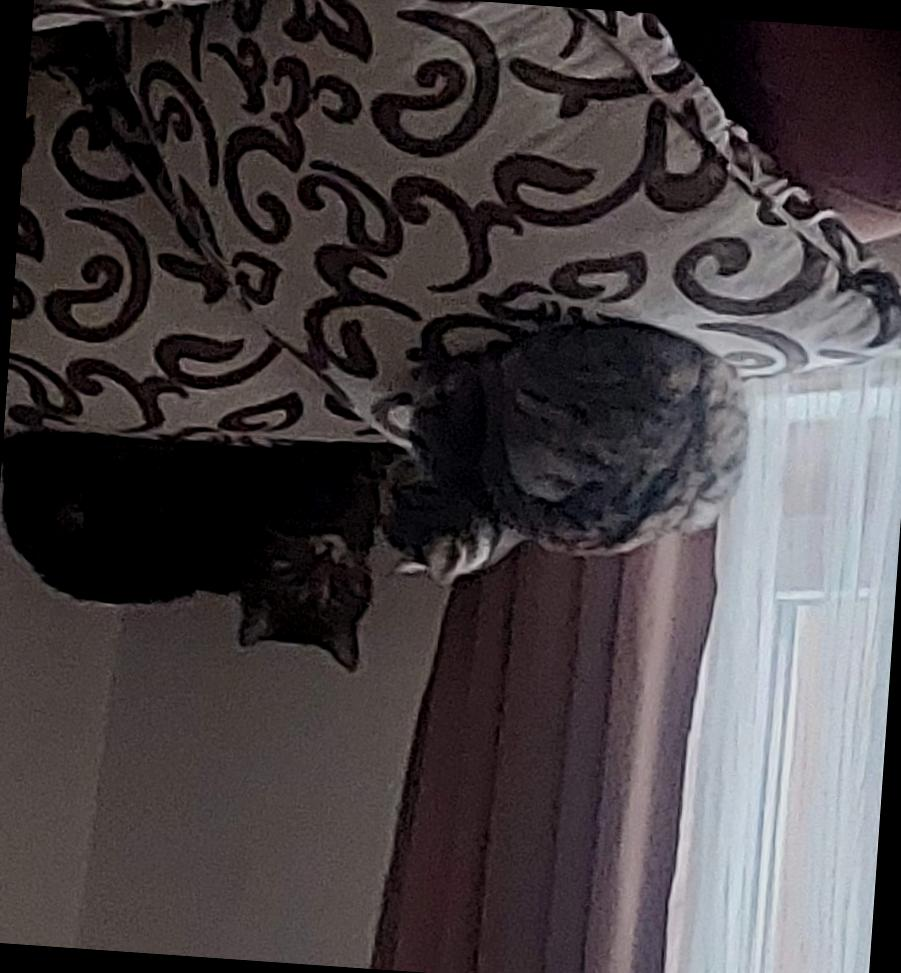macka: (368, 304, 757, 606), (0, 419, 429, 679)
